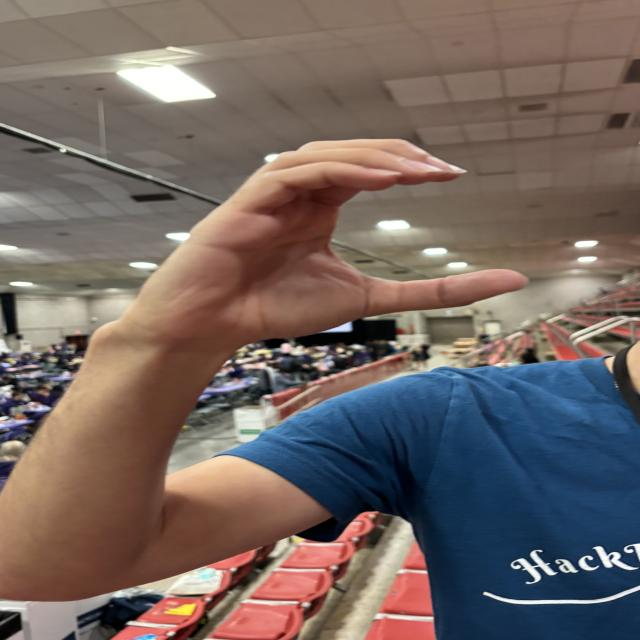C: (126, 131, 548, 355)
